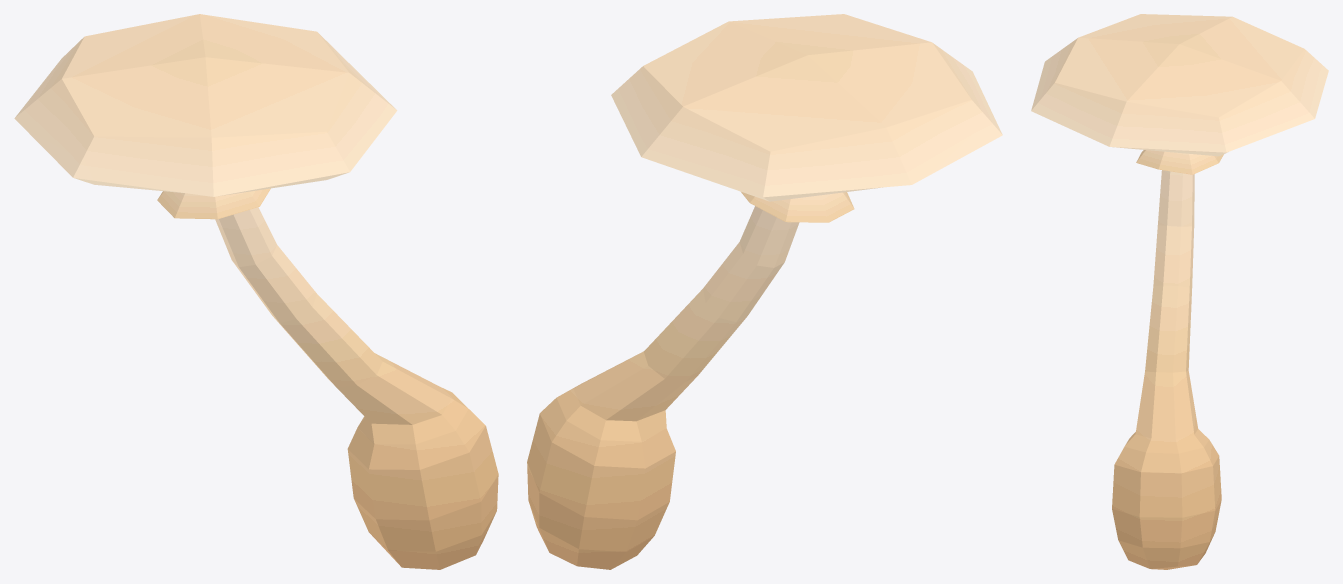
The model's file is Medium_DestroyingAngel.glb.
3 renders of one model, left to right at view 1: azimuth 30°, elevation 25°; view 2: azimuth 150°, elevation 25°; view 3: azimuth 270°, elevation 25°, orthographic. The views are drawn at different scales.
Parts seen in each view (by area): view 1: DestroyA_mid; view 2: DestroyA_mid; view 3: DestroyA_mid.
Part boxes in pixels (x1,y1,x2,y2): DestroyA_mid: [14, 14, 498, 569]; DestroyA_mid: [527, 14, 1002, 569]; DestroyA_mid: [1031, 14, 1328, 569].
Size of the model in its own units: 3.69 by 4.47 by 2.75.
Materials: 1 (1 with a texture image).
